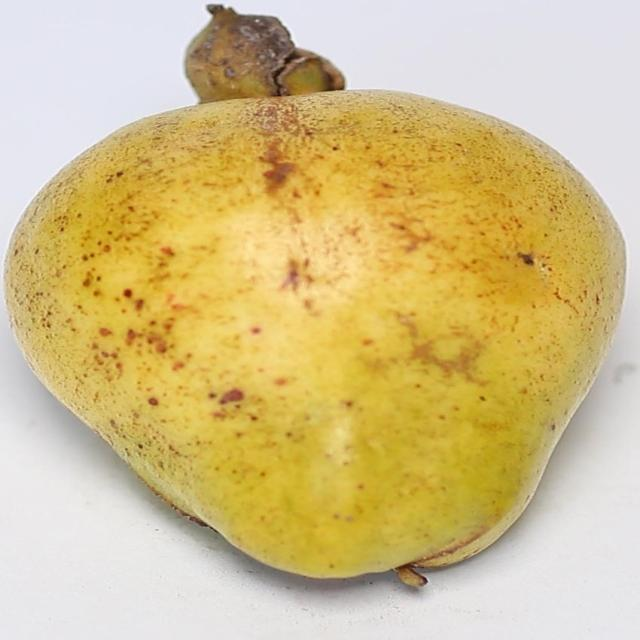Good_Guava: (3, 90, 628, 590)
